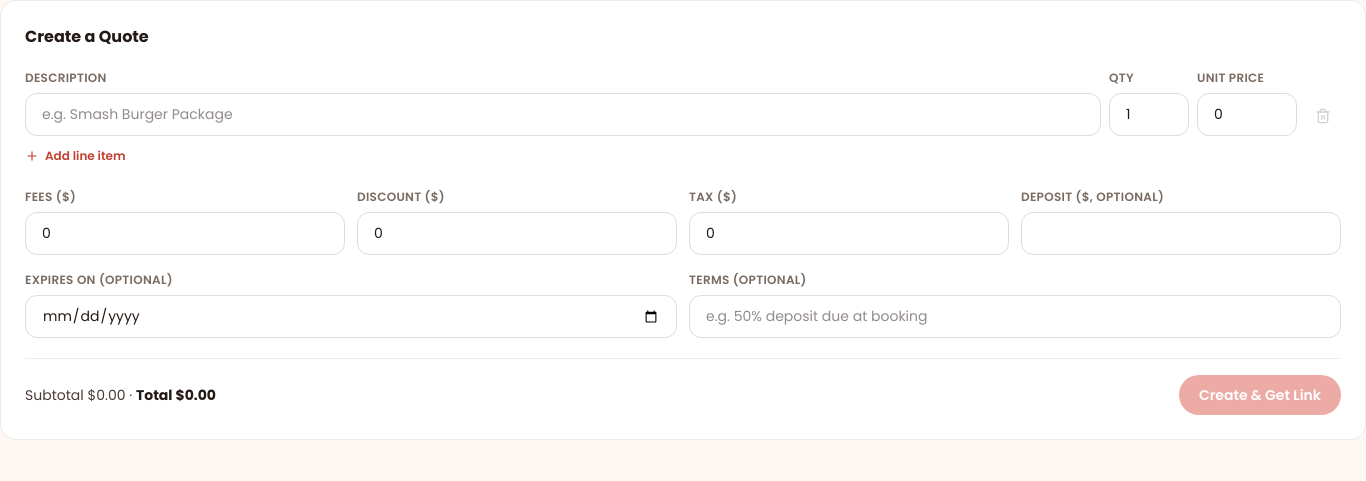
Test case: QuoteBuilder › shows the server's error message when saving fails
Type "Burgers" into the field named "Description". click: x=563, y=114
box: x1=25 y1=93 x2=1101 y2=136
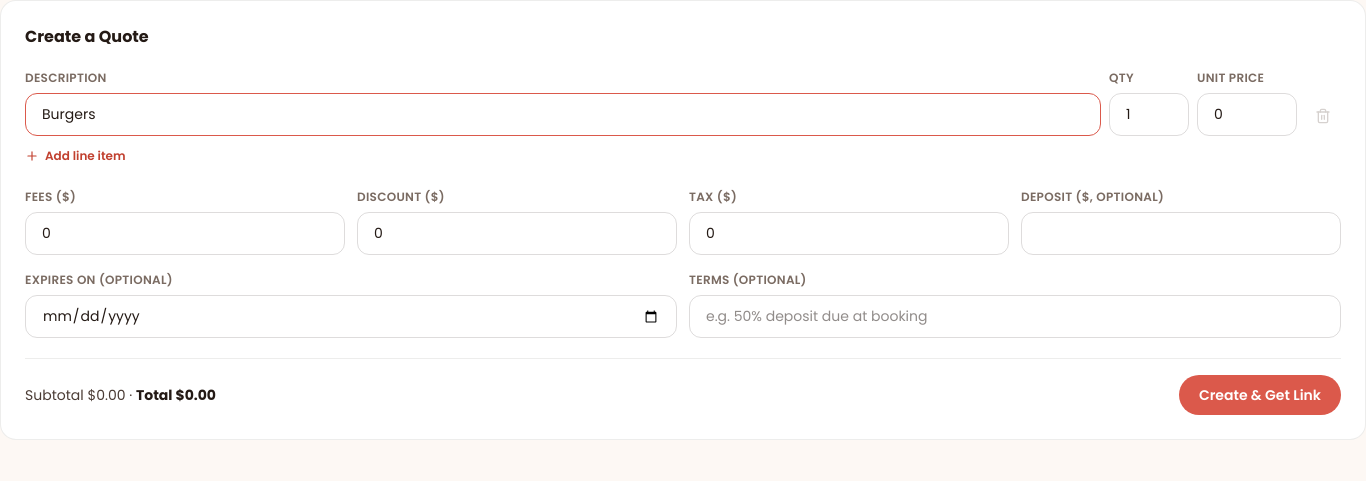
Click the button "Create & Get Link". click: x=1260, y=395
box: x1=1179 y1=375 x2=1341 y2=415
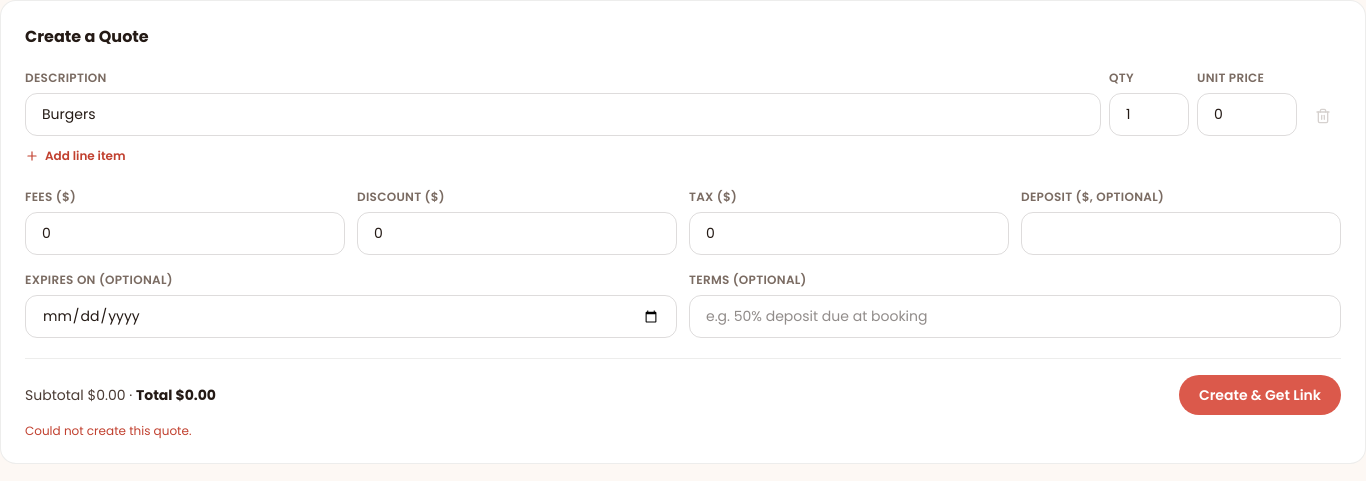
Expected: the text "Could not create this quote." is shown, x1=25 y1=422 x2=191 y2=439
